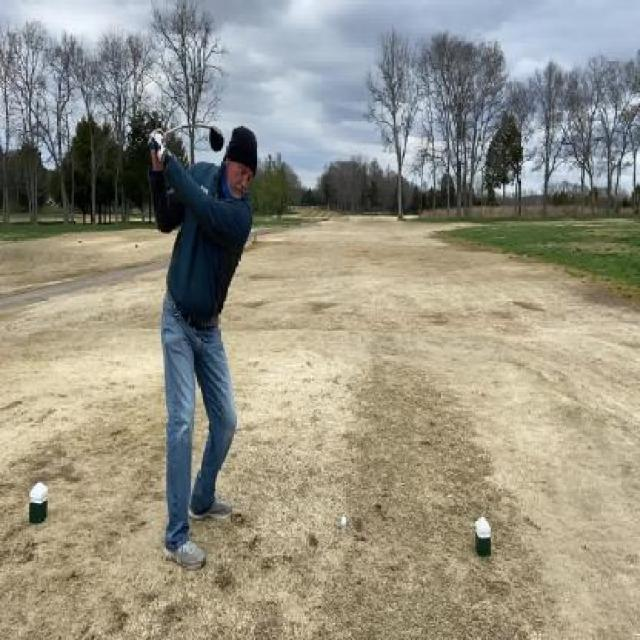club head: (203, 125, 225, 154)
